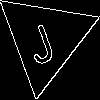J: (20, 14, 59, 67)
